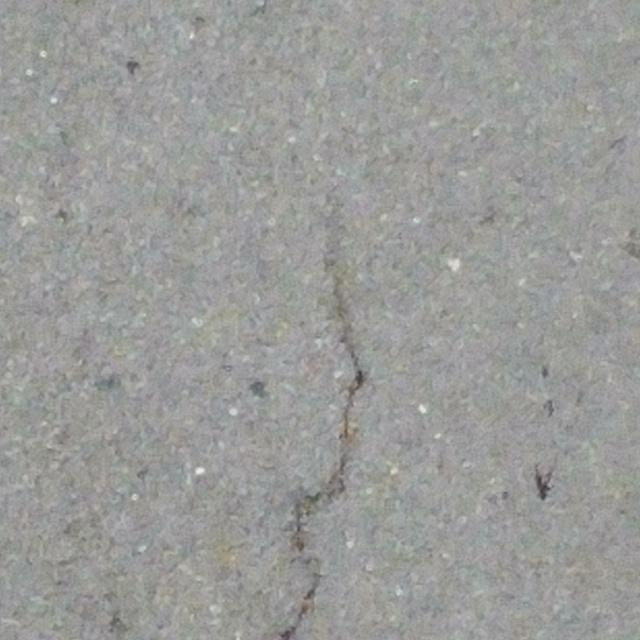LongitudinalCrack: (278, 256, 371, 640)
